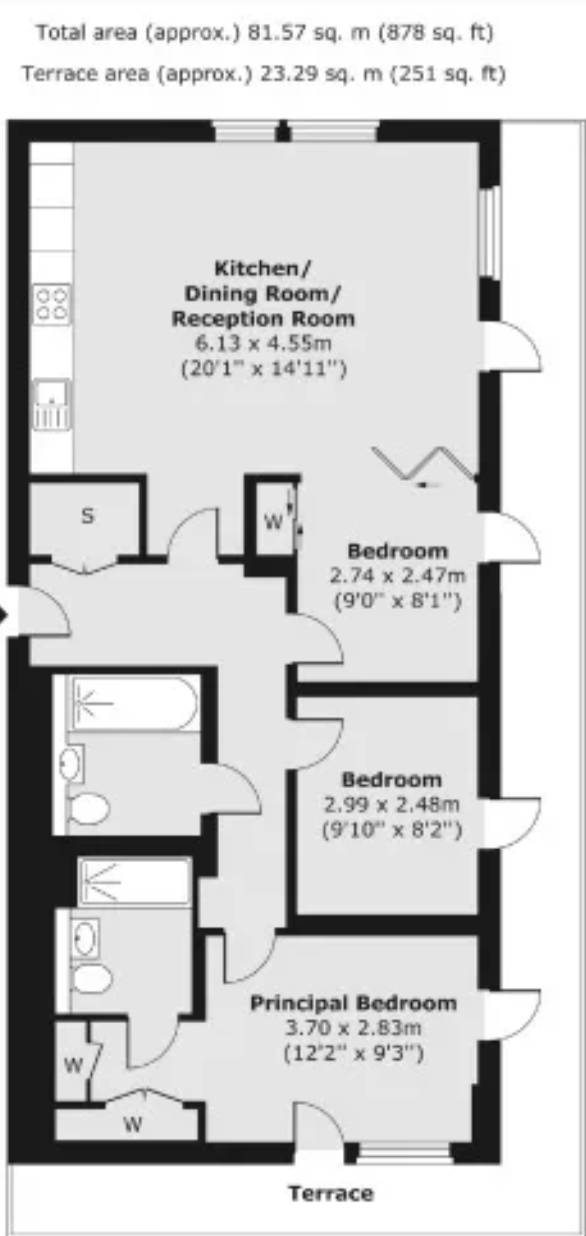basin: (67, 912, 101, 958), (58, 741, 89, 785)
bathtub: (64, 673, 202, 731), (78, 855, 192, 907)
door: (6, 580, 76, 639), (289, 1098, 349, 1164), (478, 510, 544, 568), (202, 759, 264, 819), (477, 989, 546, 1042), (286, 712, 346, 771), (478, 319, 541, 375), (474, 797, 541, 848), (167, 504, 220, 567), (285, 611, 344, 667), (223, 926, 278, 985), (126, 1013, 180, 1072)
sink: (30, 377, 71, 434)
toilet: (64, 792, 113, 826), (67, 962, 113, 995)
window: (285, 115, 378, 145), (478, 184, 502, 276), (353, 1142, 448, 1163), (206, 117, 277, 143)
